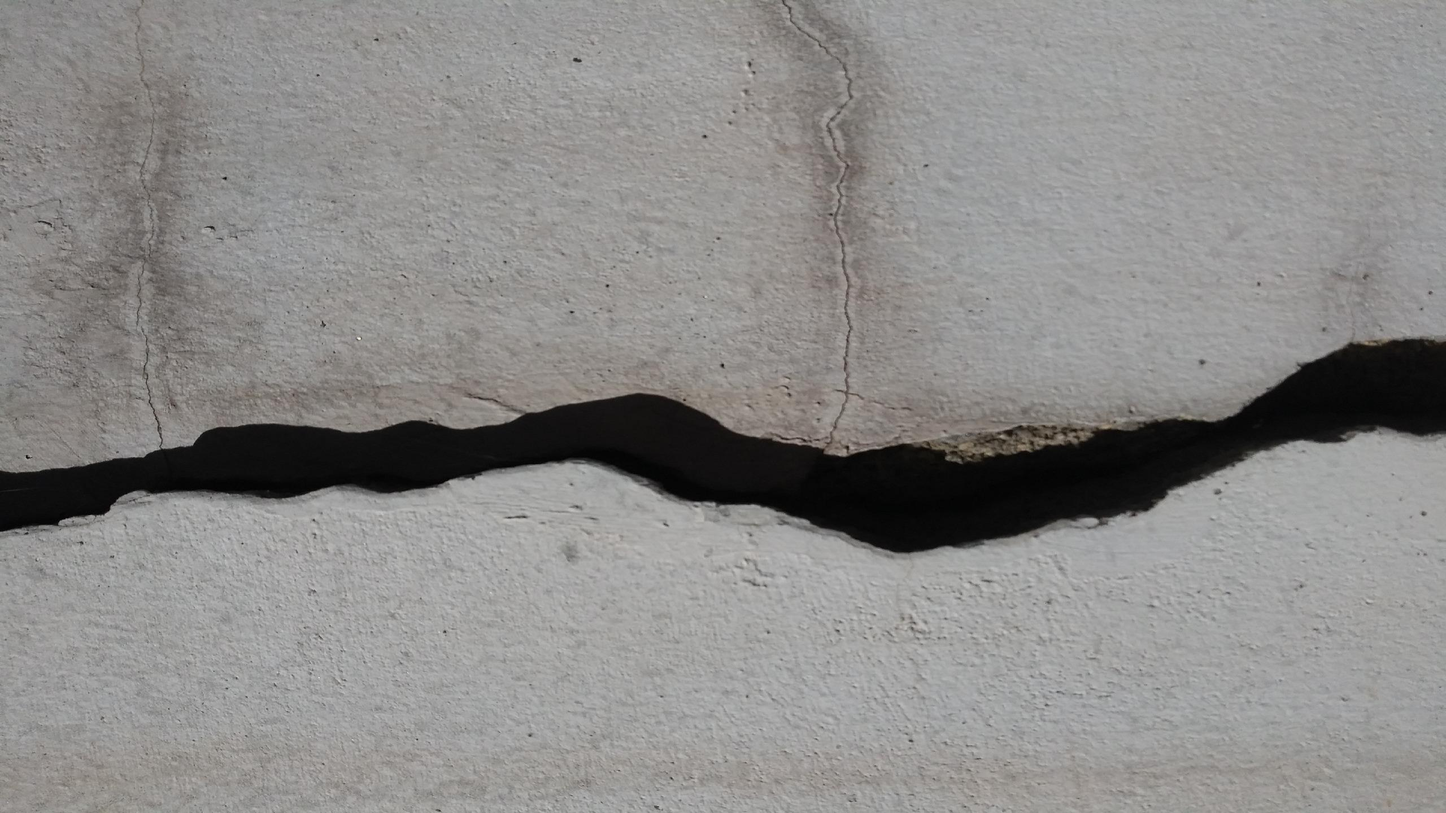crack: (2, 337, 1443, 560), (779, 0, 858, 448)
